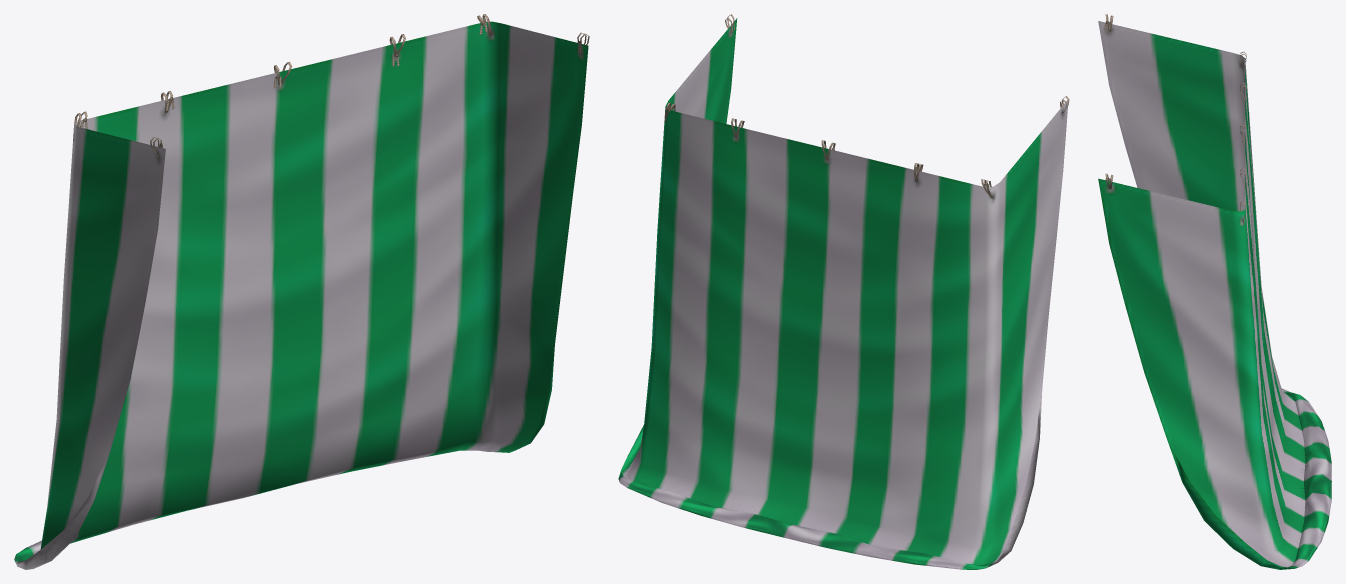
Rendered from jsf_BackSide_s01_c05_t01.fbx.
3 views of the same model, side by side, from view 1: azimuth 30°, elevation 25°; view 2: azimuth 150°, elevation 25°; view 3: azimuth 270°, elevation 25° (orthographic). The views are drawn at different scales.
Visible parts, largest first — view 1: jsf_BackSide_s01_c05_t01; view 2: jsf_BackSide_s01_c05_t01; view 3: jsf_BackSide_s01_c05_t01.
Part boxes in pixels (x1=…): jsf_BackSide_s01_c05_t01: x1=14, y1=14, x2=589, y2=569; jsf_BackSide_s01_c05_t01: x1=618, y1=14, x2=1069, y2=569; jsf_BackSide_s01_c05_t01: x1=1098, y1=14, x2=1331, y2=569.
Bounding box in the file's own units: 207 × 205 × 112.
